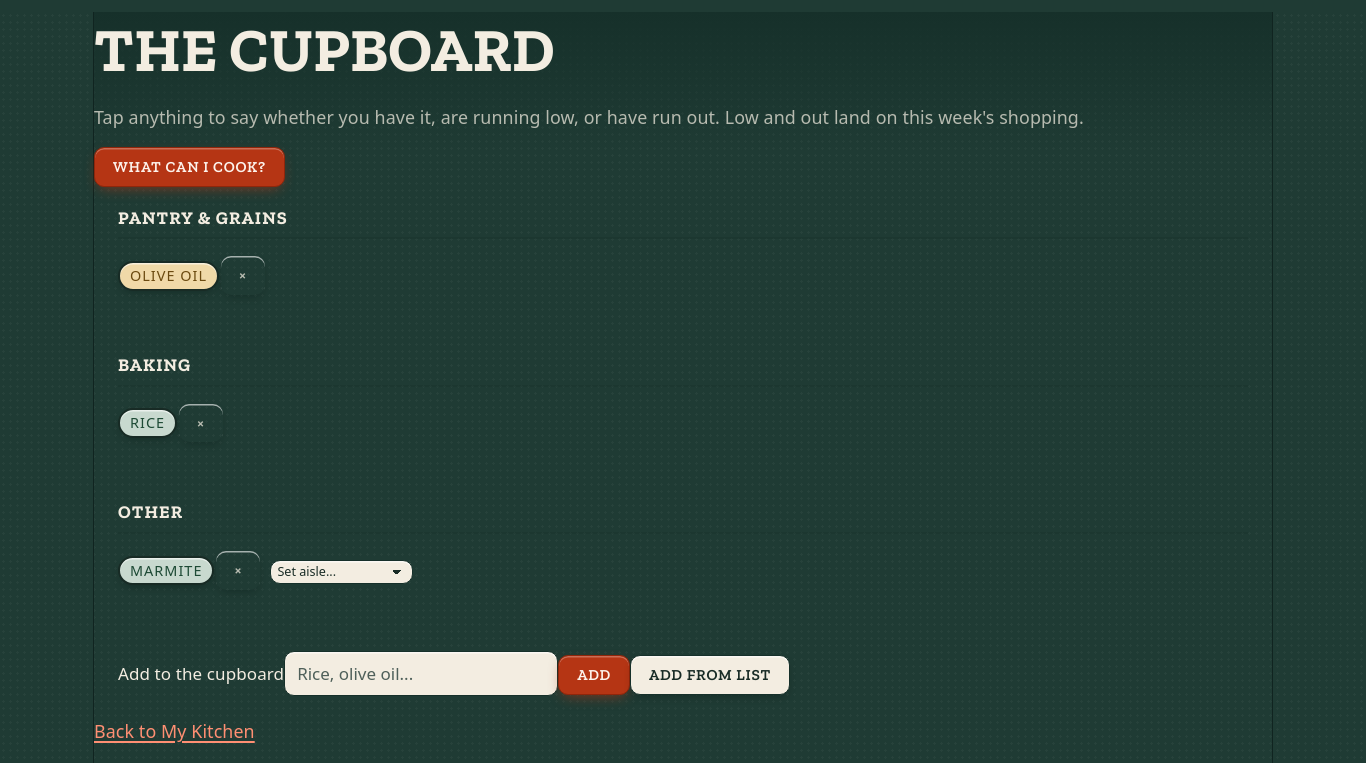
Test: explains an empty result
Click the button "What can I cook?".
click(189, 167)  # box [94,147,285,187]
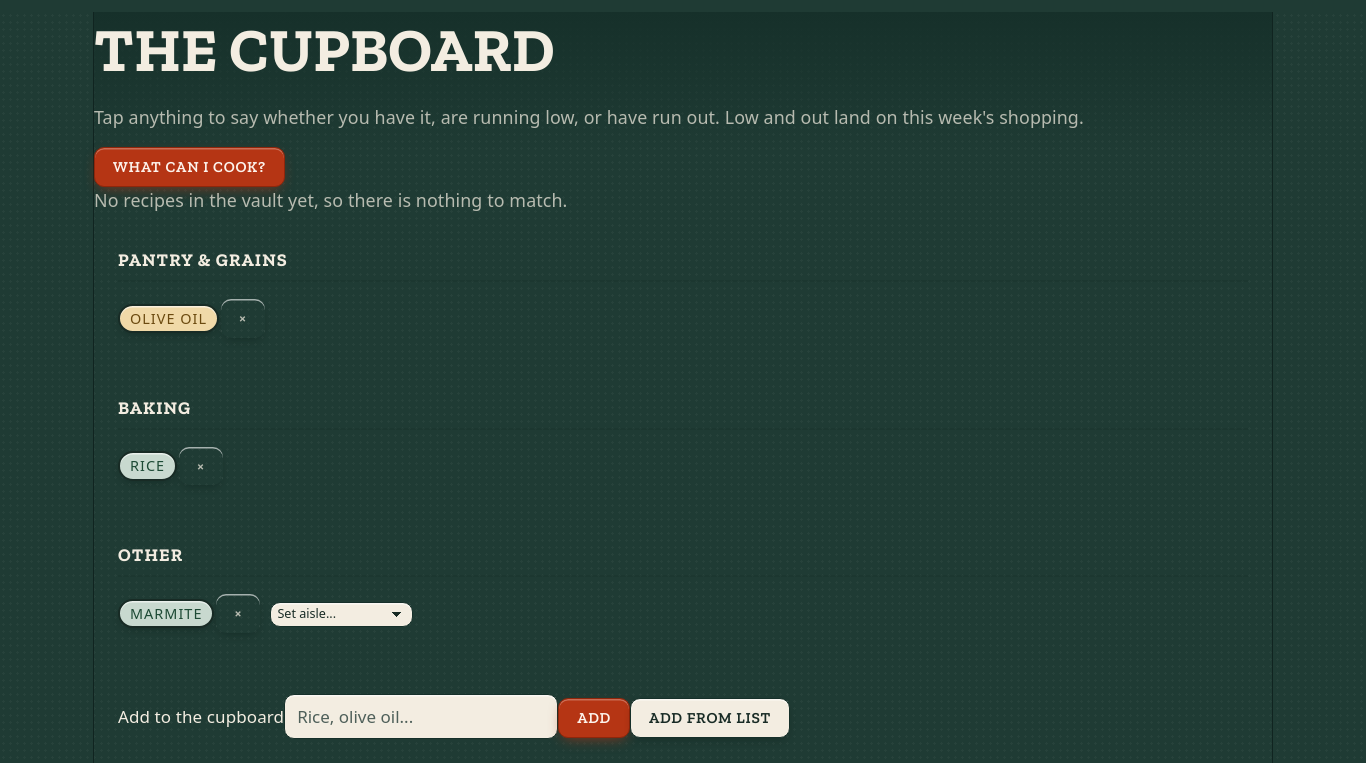
Check: the text "No recipes in the vault yet, so there is nothing to match." is shown, box [94,188,568,212]
